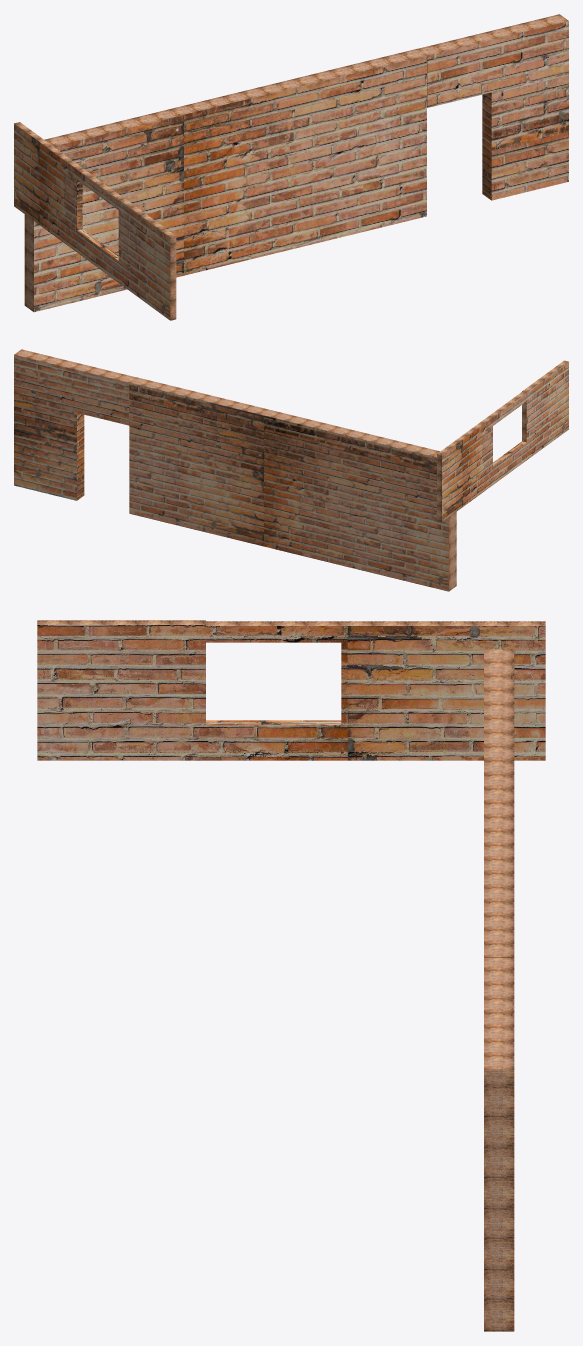
The model's file is SOS.fbx.
3 renders of one model, top to bottom at view 1: azimuth 30°, elevation 25°; view 2: azimuth 150°, elevation 25°; view 3: azimuth 270°, elevation 25°, orthographic. The views are drawn at different scales.
Parts seen in each view (by area): view 1: Cube__29_; view 2: Cube__29_; view 3: Cube__29_.
Part boxes in pixels (x1,y1,x2,y2): Cube__29_: [14, 14, 568, 320]; Cube__29_: [14, 349, 568, 591]; Cube__29_: [37, 620, 545, 1331].
Size of the model in its own units: 2985 by 935 by 1509.
Materials: 1 (1 with a texture image).
